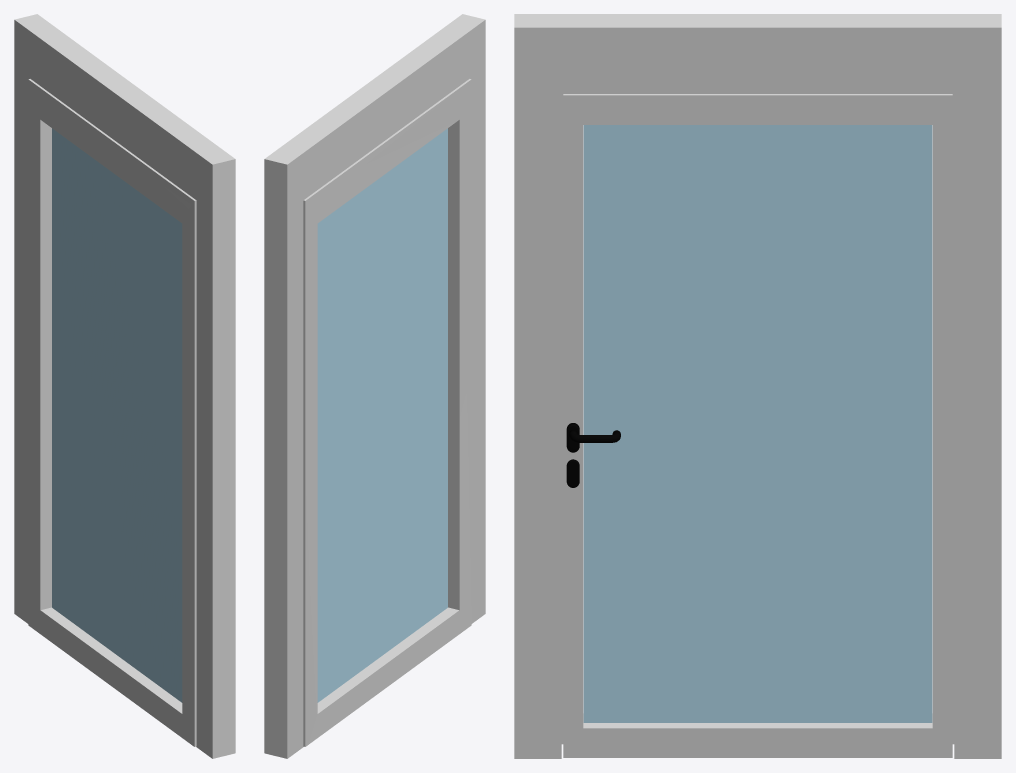
Rendered from IAIDoorD.dae.
The picture shows the model from 3 angles, left to right: view 1: azimuth 30°, elevation 25°; view 2: azimuth 150°, elevation 25°; view 3: azimuth 270°, elevation 25°; orthographic projection. The views are drawn at different scales.
Parts seen in each view (by area): view 1: SM_IAIDoorD; view 2: SM_IAIDoorD; view 3: SM_IAIDoorD.
Boxes of the visible parts, x1,y1,x2,y2 form: SM_IAIDoorD: [14, 14, 235, 758]; SM_IAIDoorD: [264, 14, 485, 758]; SM_IAIDoorD: [514, 14, 1001, 758].
Bounding box in the file's own units: 0.1821 × 1.49 × 2.46.
